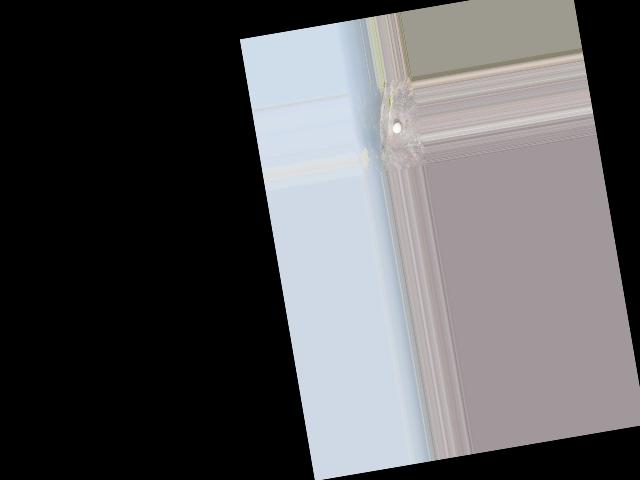egg: (392, 122, 402, 134)
